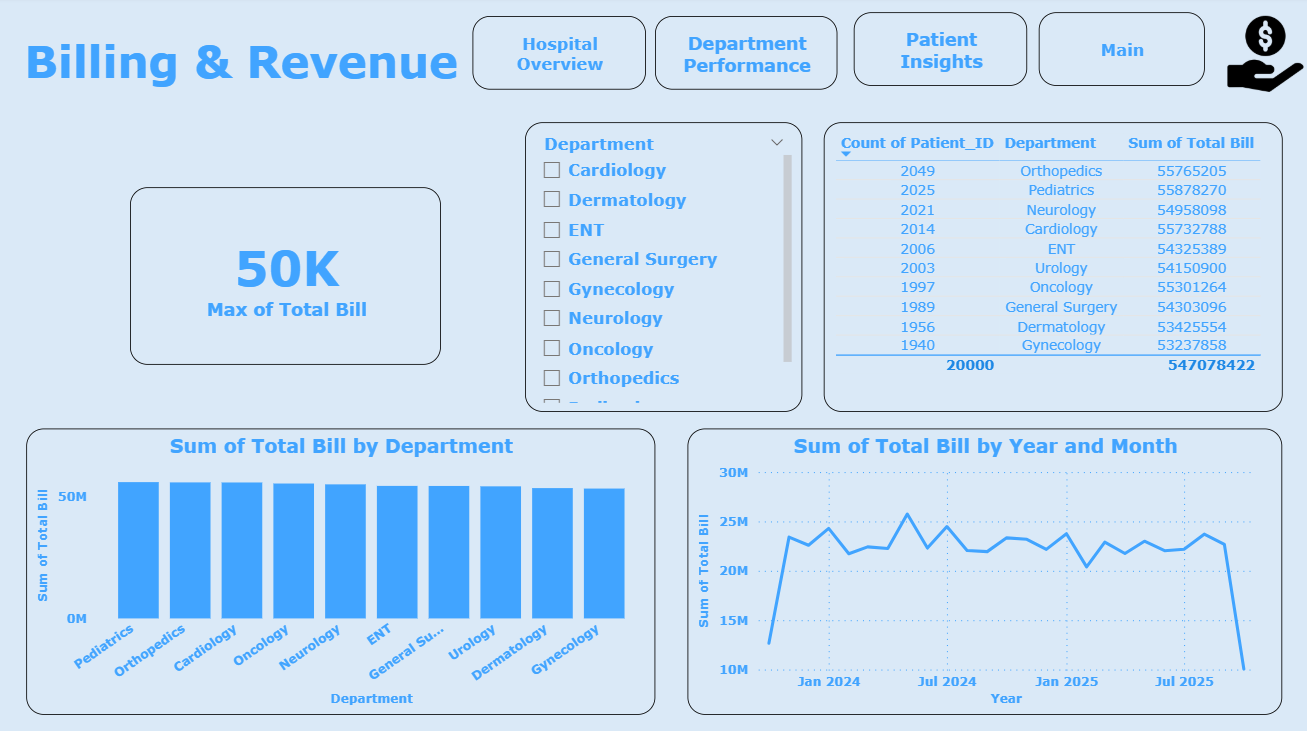

Layout of this report page (visuals, bound fields, positions):
{"tool":"powerbi","page":{"name":"Billing & Revenue","canvas":[1280,720],"ordinal":1},"visuals":[{"type":"card","fields":{"Values":["Max(Sheet1.Total Bill)"]},"box":[127.1,187,304.4,173.6],"z":0},{"type":"tableEx","fields":{"Values":["CountNonNull(Sheet1.Patient_ID)","Sheet1.Department","Sum(Sheet1.Total Bill)"]},"box":[805.6,123.5,448.6,283.6],"z":1000},{"type":"clusteredColumnChart","fields":{"Category":["Sheet1.Department"],"Y":["Sum(Sheet1.Total Bill)"]},"box":[25.7,423,614.9,279.9],"z":2000},{"type":"lineChart","fields":{"Y":["Sum(Sheet1.Total Bill)"],"Category":["Sheet1.Admission_Date.Variation.Date Hierarchy.Year","Sheet1.Admission_Date.Variation.Date Hierarchy.Month"]},"box":[672.3,423,581.9,279.9],"z":3000},{"type":"slicer","fields":{"Values":["Sheet1.Department"]},"box":[513.4,123.5,271.4,283.6],"z":4000},{"type":"textbox","box":[9.8,31.8,452.3,83.1],"z":5000},{"type":"image","box":[1195.5,9.8,84.3,92.9],"z":7000},{"type":"actionButton","title":"department Performance","box":[1015.8,15.9,162.6,72.1],"z":8000},{"type":"actionButton","title":"department Performance","box":[834.9,15.9,169.9,72.1],"z":9000},{"type":"actionButton","title":"department Performance","box":[640.5,19.6,178.5,72.1],"z":10000},{"type":"actionButton","title":"department Performance","box":[462.1,19.6,169.9,72.1],"z":11000}]}

Visuals, with their boxes in screenshot pixels (x1, y1, x2, y2), scaled from the page's 1280x720 canvas onto the 1307x731 screenshot:
card - Max(Sheet1.Total Bill): x1=130, y1=190, x2=441, y2=366
tableEx - CountNonNull(Sheet1.Patient_ID) x Sheet1.Department: x1=823, y1=125, x2=1281, y2=413
clusteredColumnChart - Sheet1.Department x Sum(Sheet1.Total Bill): x1=26, y1=429, x2=654, y2=714
lineChart - Sum(Sheet1.Total Bill) x Sheet1.Admission_Date.Variation.Date Hierarchy.Year: x1=686, y1=429, x2=1281, y2=714
slicer - Sheet1.Department: x1=524, y1=125, x2=801, y2=413
textbox: x1=10, y1=32, x2=472, y2=117
image: x1=1221, y1=10, x2=1306, y2=104
"department Performance" actionButton: x1=1037, y1=16, x2=1203, y2=89
"department Performance" actionButton: x1=853, y1=16, x2=1026, y2=89
"department Performance" actionButton: x1=654, y1=20, x2=836, y2=93
"department Performance" actionButton: x1=472, y1=20, x2=645, y2=93
